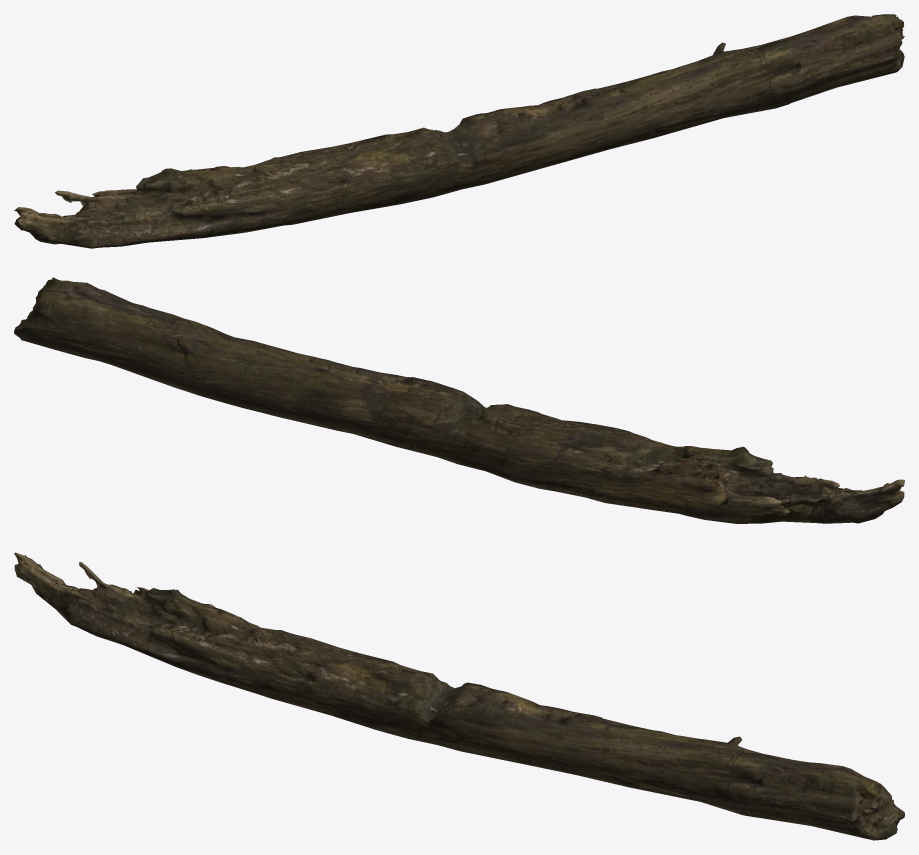
File: dead-tree-trunk.glb
The picture shows the model from 3 angles, top to bottom: view 1: azimuth 30°, elevation 25°; view 2: azimuth 150°, elevation 25°; view 3: azimuth 330°, elevation 25°; orthographic projection.
Parts seen in each view (by area): view 1: dead_tree_trunk; view 2: dead_tree_trunk; view 3: dead_tree_trunk.
Part boxes in pixels (x1,y1,x2,y2): dead_tree_trunk: [14, 14, 904, 248]; dead_tree_trunk: [14, 277, 904, 523]; dead_tree_trunk: [14, 552, 904, 840].
Size of the model in its own units: 3.05 by 0.2905 by 0.2771.
1 material, 1 textured.
